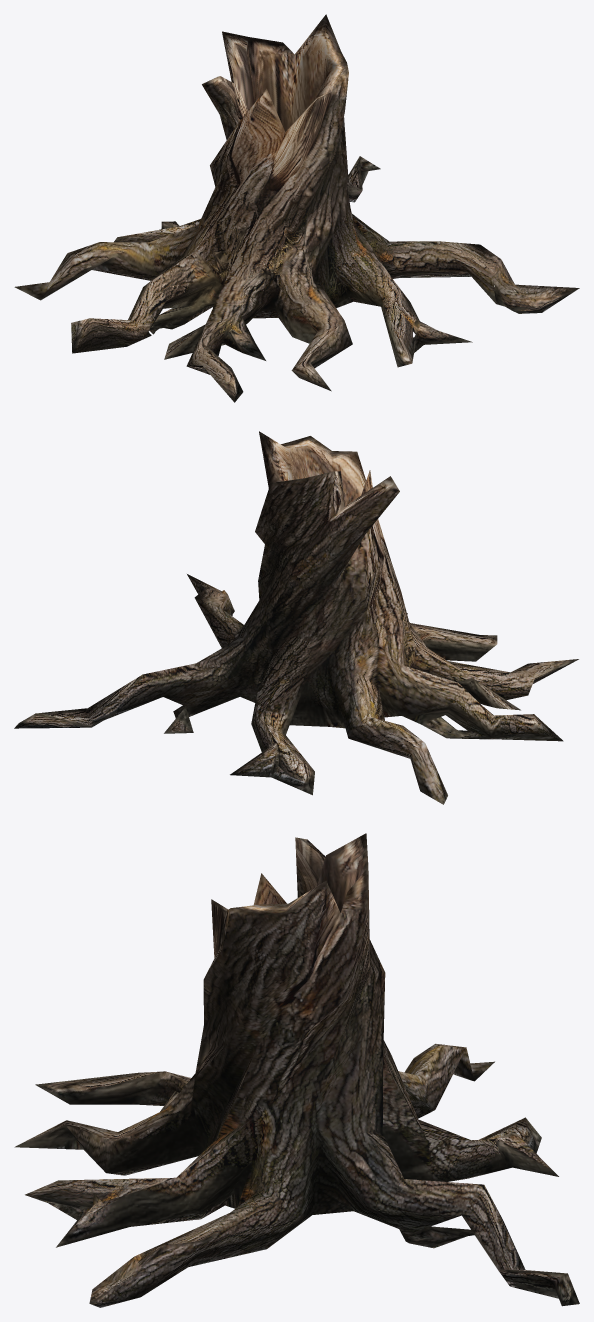
Rendered from oak_tree_low.glb.
3 views of the same model, one above another, from view 1: azimuth 30°, elevation 25°; view 2: azimuth 150°, elevation 25°; view 3: azimuth 270°, elevation 25° (orthographic). The views are drawn at different scales.
Visible parts, largest first — view 1: tripo_node_780751f5-dad1-466b-9243-1c9bbd100f2d; view 2: tripo_node_780751f5-dad1-466b-9243-1c9bbd100f2d; view 3: tripo_node_780751f5-dad1-466b-9243-1c9bbd100f2d.
Part boxes in pixels (box(x1,y1,x2,y2)): tripo_node_780751f5-dad1-466b-9243-1c9bbd100f2d: box(14, 14, 579, 402); tripo_node_780751f5-dad1-466b-9243-1c9bbd100f2d: box(14, 431, 578, 804); tripo_node_780751f5-dad1-466b-9243-1c9bbd100f2d: box(14, 833, 579, 1307).
Bounding box in the file's own units: 0.8332 × 0.4826 × 0.7156.
Materials: 1 (1 with a texture image).
